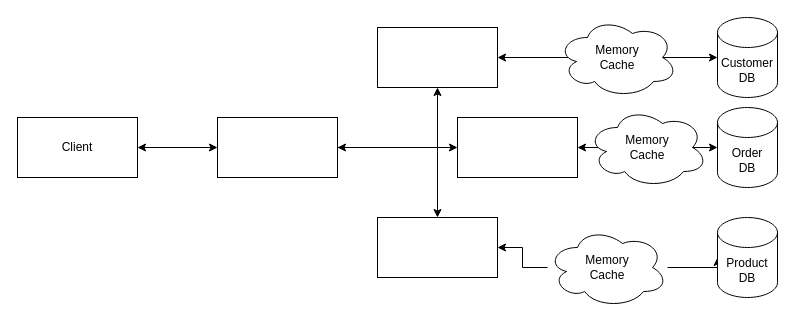
This 795x325 diagram has some shape labels left out. The shapes that lost their labels are listed below. From the top down, each one's centre as x and y in pixels, then its label:
[437,57]: Customer Microservice
[277,147]: Gateway
[517,147]: Order Microservice
[437,247]: Product Microservice
